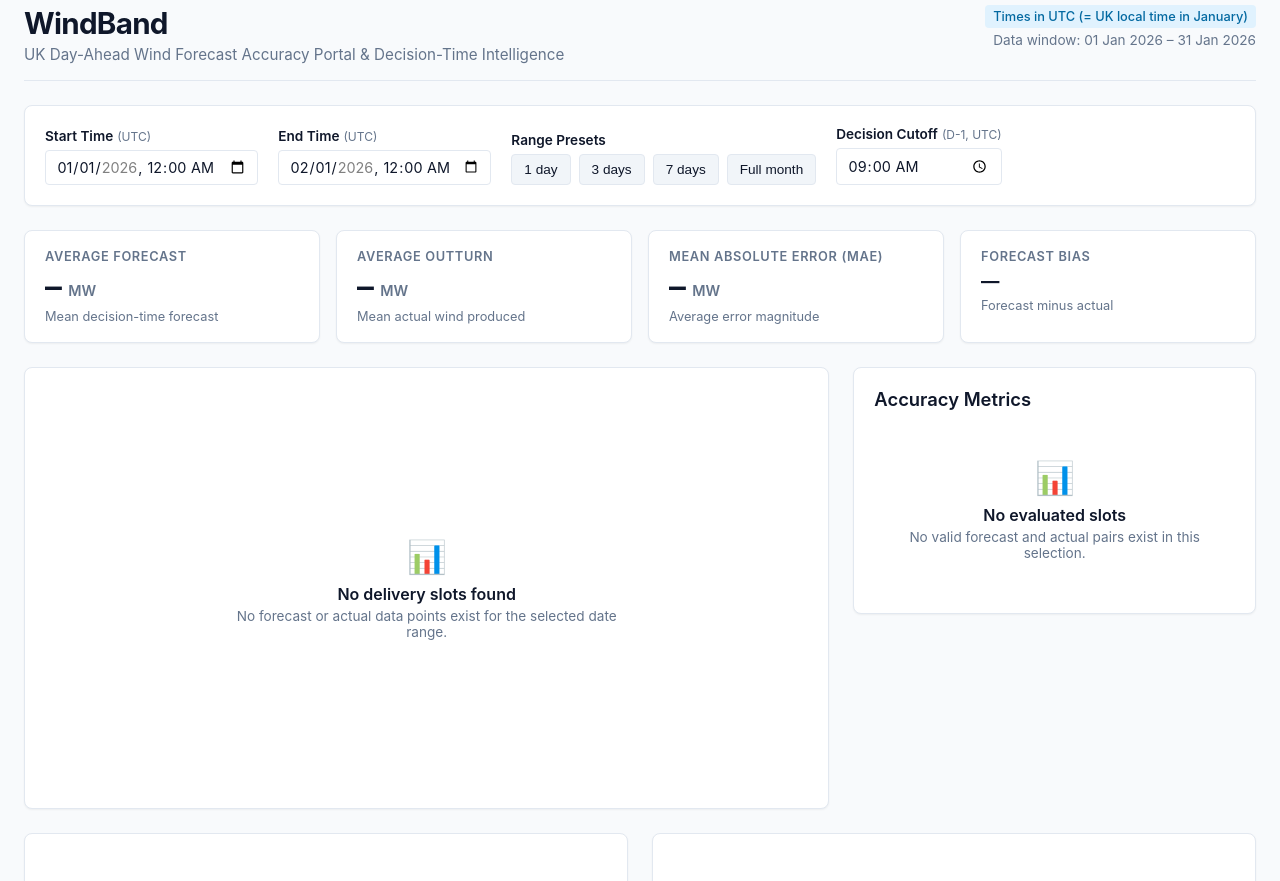
App controls and state integration › renders controls, updates range state on preset click, and displays inline error on invalid range
This screenshot has width=1280, height=881.
Note: Click 1 day preset (start: 2026-01-31T00:00, end: 2026-02-01T00:00)
Click the button "1 day" at (541, 169), box [511,154,571,185]
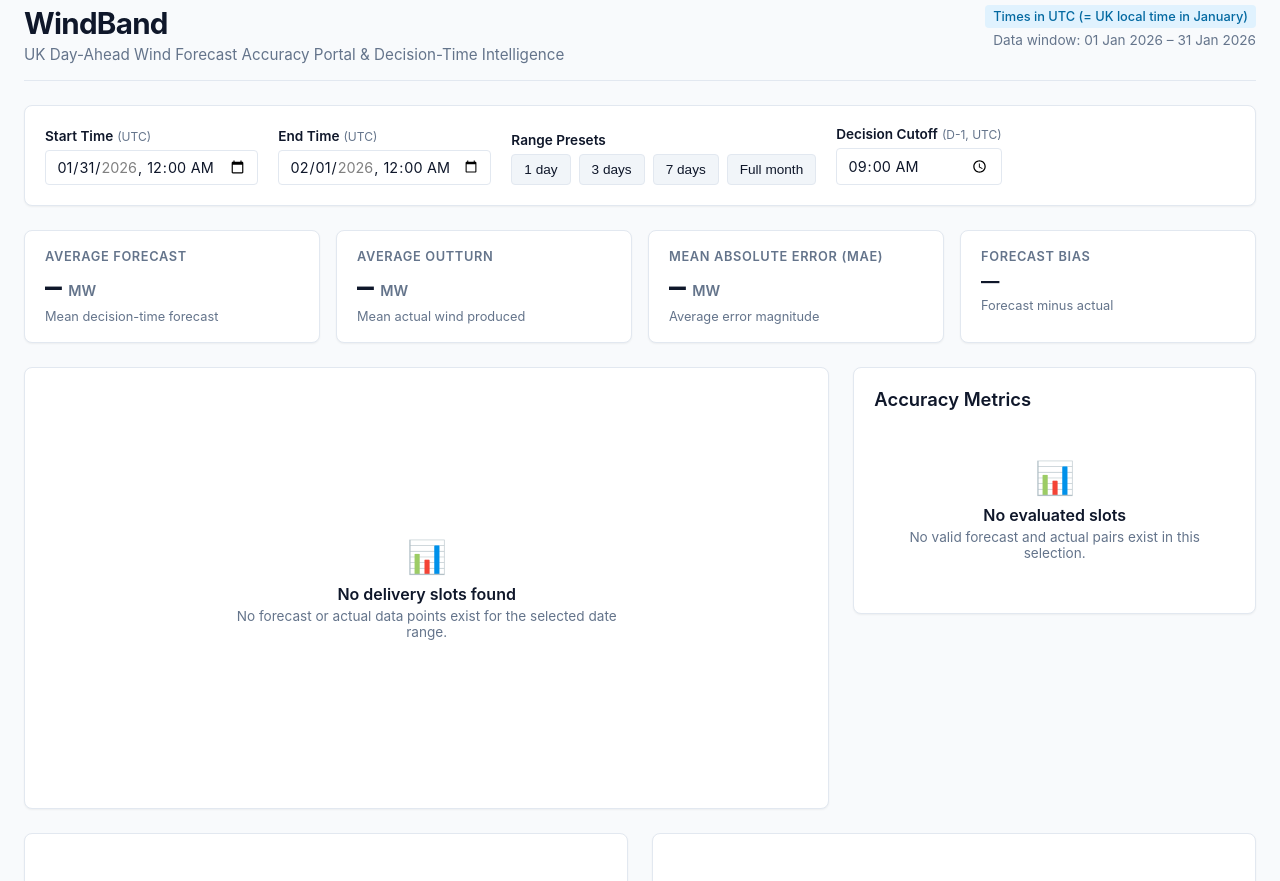
Now the field showing "2026-01-31T00:00" is shown, box [45,150,258,185]
Replace the text in the field labelled "End Time (UTC)" with "2026-01-15T00:00" at (385, 167), box [278,150,491,185]
(page scrolled)
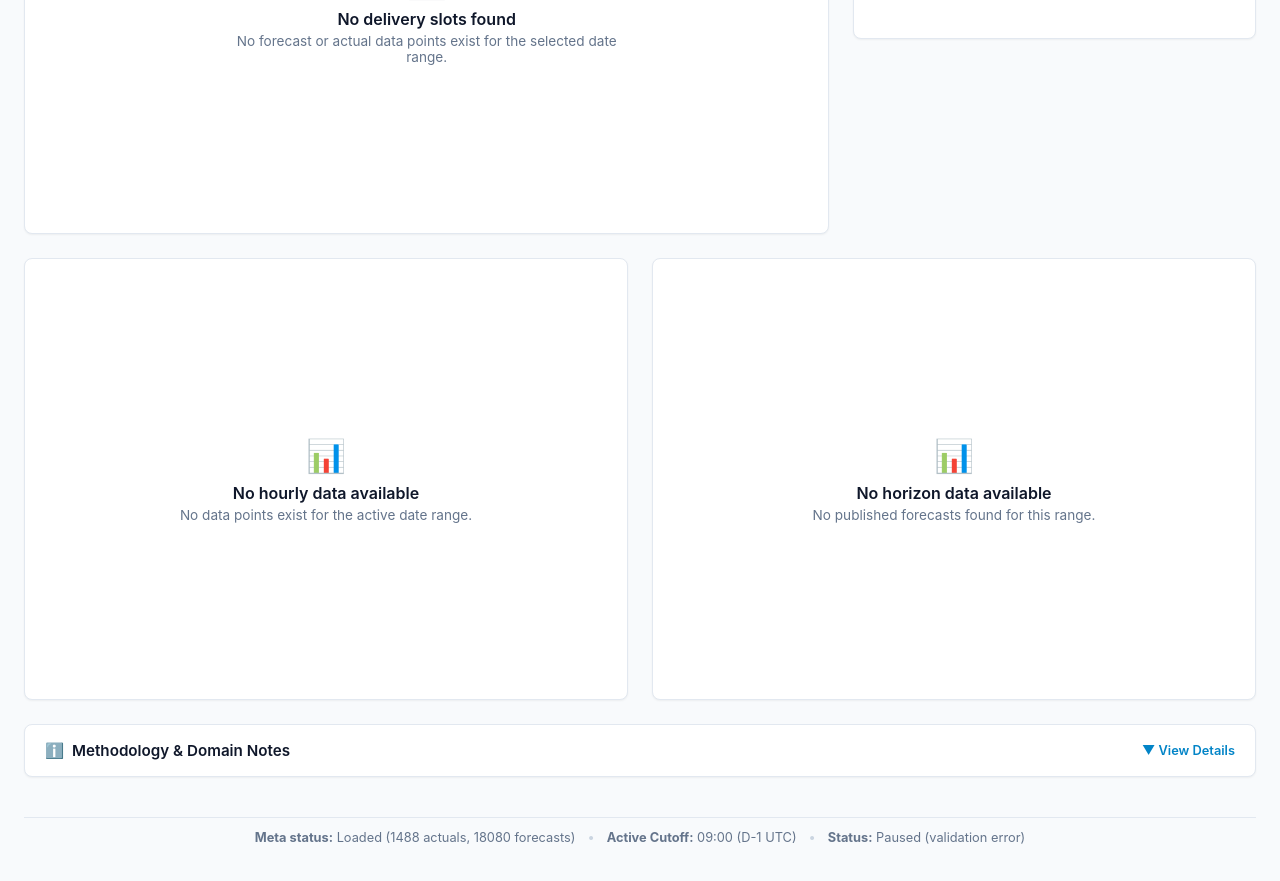
Now the text "Status: Paused (validation error)" is shown, box [828,830,1025,845]
